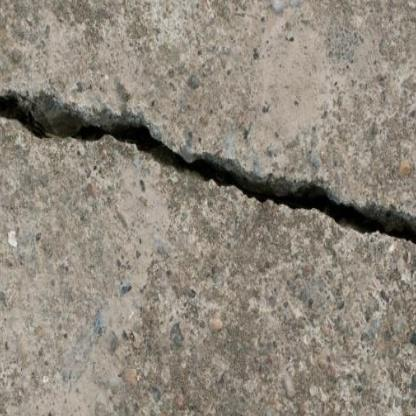Cracks: (0, 90, 416, 258)
